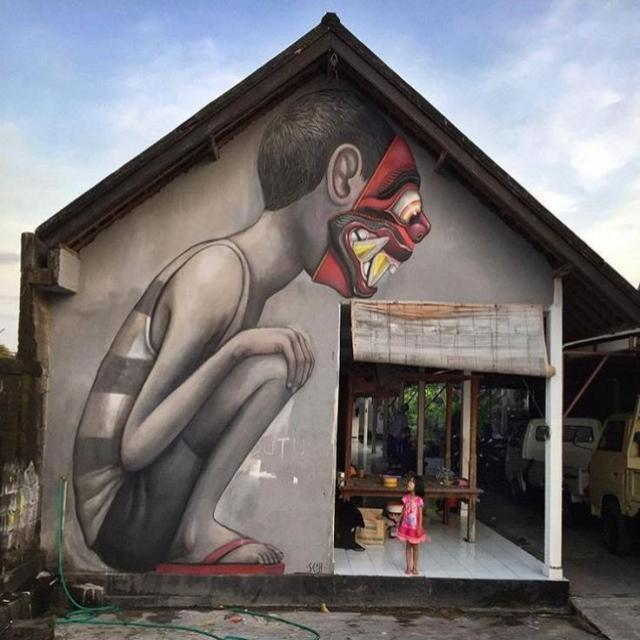-: (64, 93, 424, 576)
